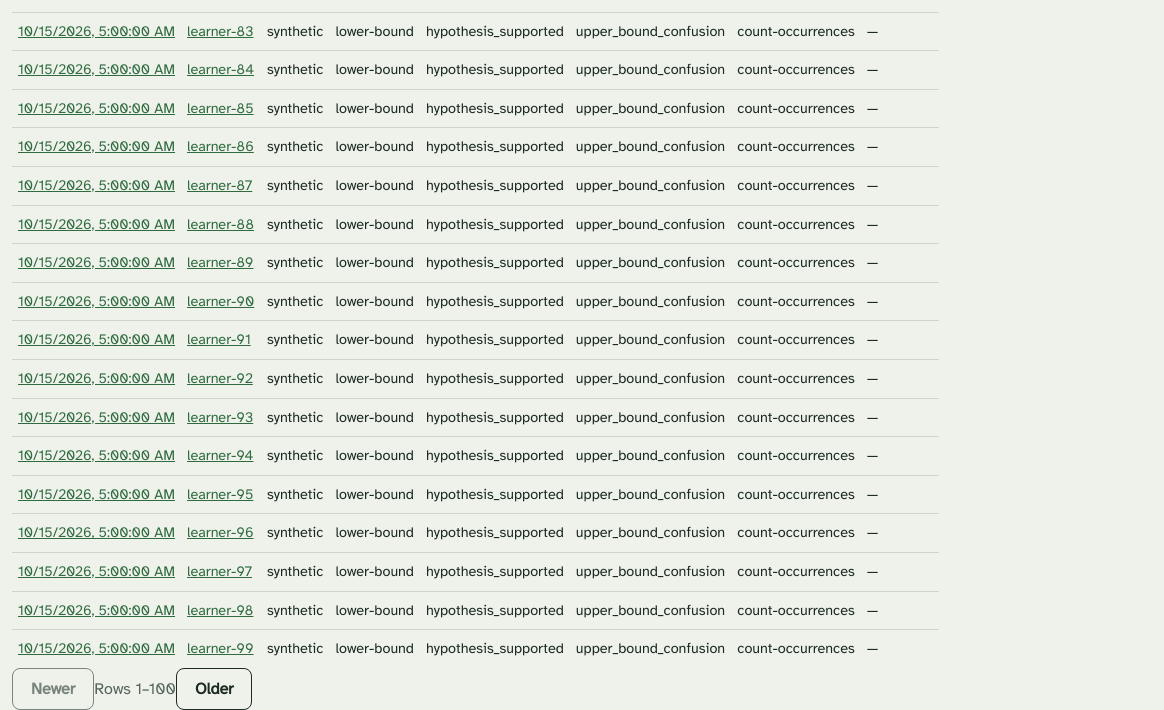
Test case: researcher pages › pages through submissions and returns to the first page when a filter changes
This screenshot has width=1164, height=710.
(page scrolled)
Expected: the button "Newer" is disabled, [12,668,94,709]
Click the button "Older" at (214, 689), box [176,668,252,709]
(page scrolled)
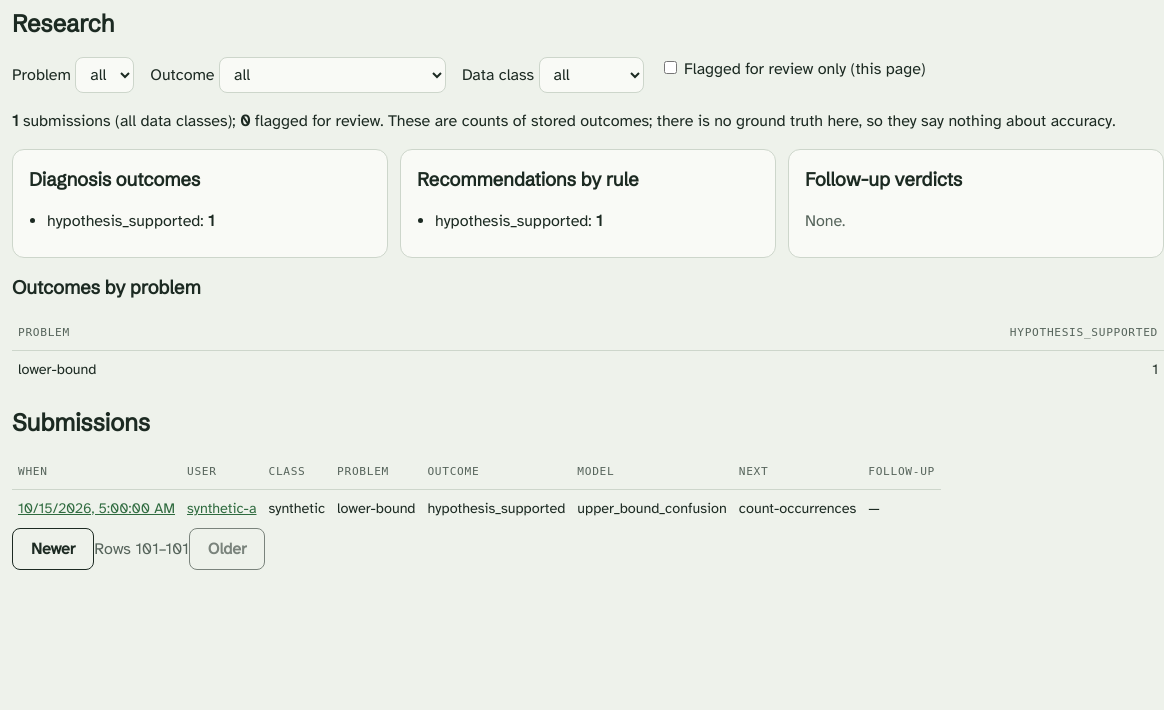
Expected: the link "synthetic-a" is shown, [187,499,256,517]
Expected: the button "Older" is disabled, [189,528,265,570]
# A new filter starts again from the newest rows.
Select "ambiguous" in the dropdown labelled "Outcome" at (332, 75), box [219,57,446,93]
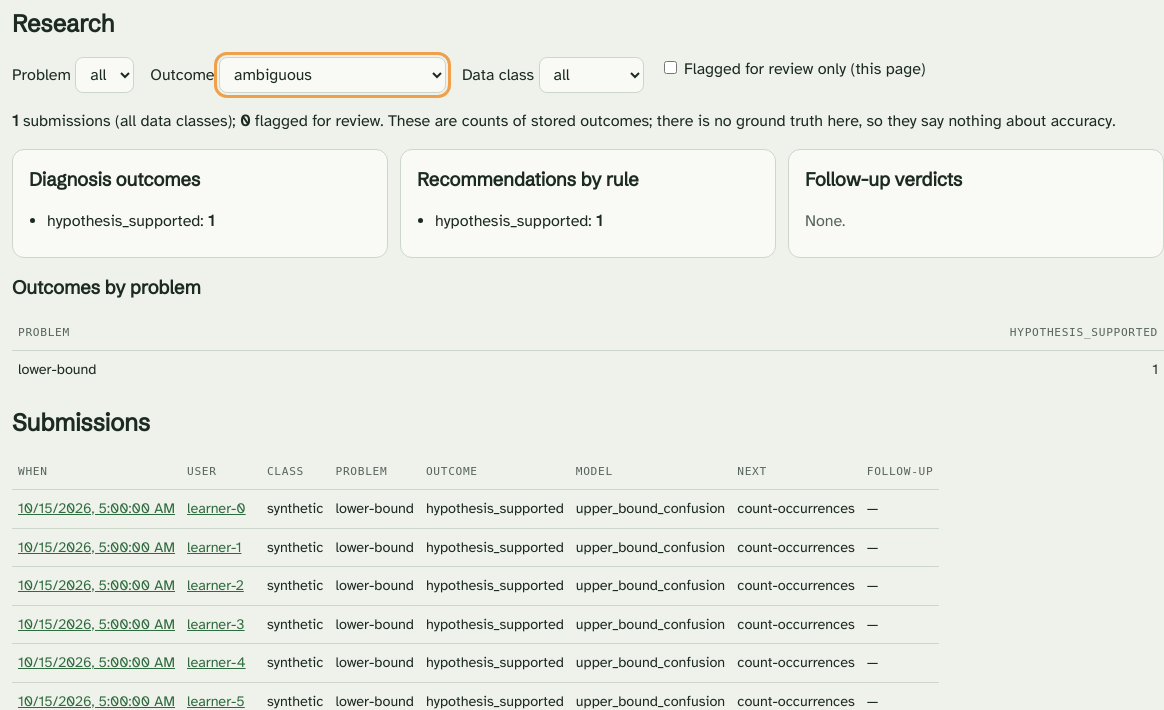
Expected: the link "learner-0" is shown, [187,499,246,517]
